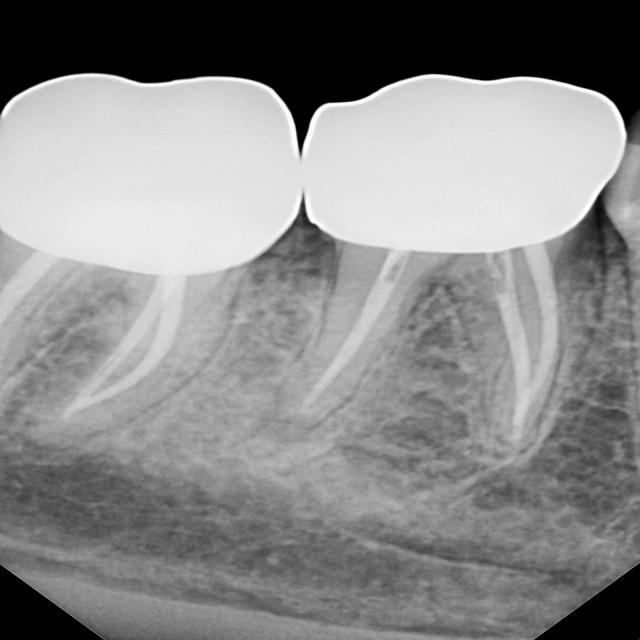Crown: (297, 56, 637, 288), (0, 64, 313, 293)
